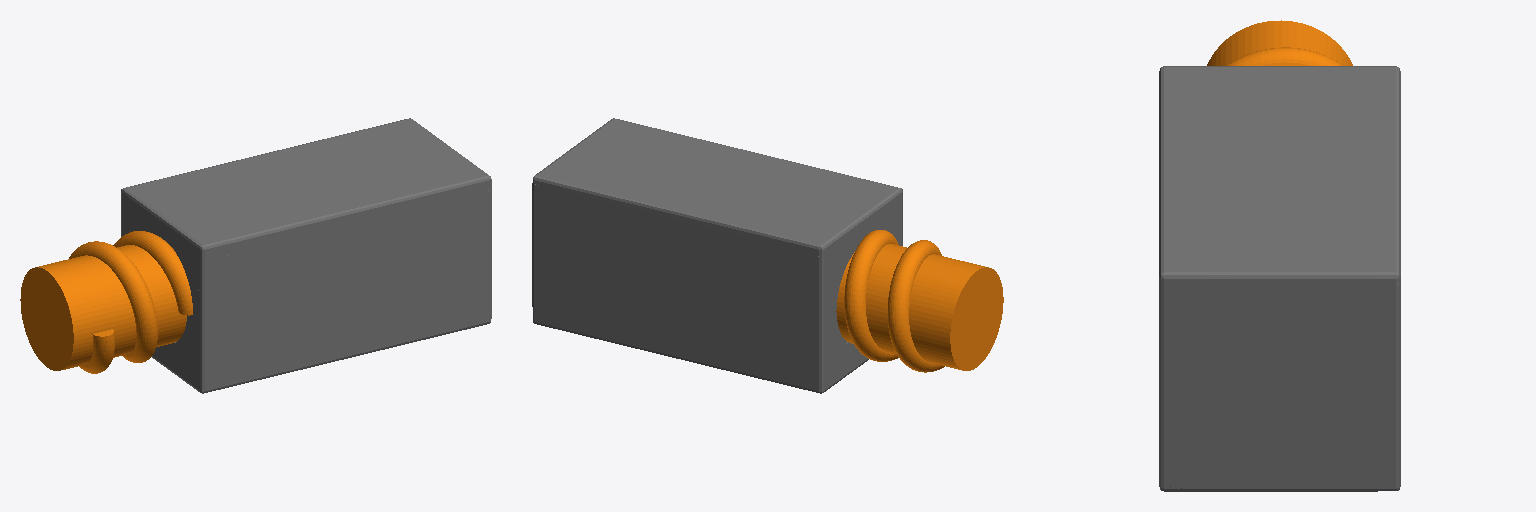
robot.urdf — square_table_leg4_sdf_hybrid_matchedmass:
<?xml version="1.0" encoding="utf-8"?>
<robot name="square_table_leg4_sdf_hybrid_matchedmass">
  <link name="base_link">
    <inertial>
      <!-- measured 1x: 22.75 g -->
      <mass value="0.022750"/>
      <origin xyz="0.005745 0.000000 -0.000001" rpy="0 0 0"/>
      <inertia ixx="2.570880e-06" ixy="-2.009384e-10" ixz="-8.317314e-09" iyy="1.202610e-05" iyz="-2.897770e-12" izz="1.202563e-05"/>
    </inertial>
  </link>
  <material name="thread">
    <color rgba="0.95 0.55 0.10 1.0"/>
  </material>
  <material name="body">
    <color rgba="0.50 0.50 0.50 1.0"/>
  </material>
  <link name="thread_link">
    <visual>
      <origin xyz="0.000000 0.000000 0.000000" rpy="0.000000 0.000000 0.000000"/>
      <geometry>
        <mesh filename="square_table_leg4_thread.obj" scale="1 1 1"/>
      </geometry>
      <material name="thread"/>
    </visual>
    <collision>
      <origin xyz="0.000000 0.000000 0.000000" rpy="0.000000 0.000000 0.000000"/>
      <geometry>
        <mesh filename="square_table_leg4_thread.obj" scale="1 1 1"/>
      </geometry>
      <sdf resolution="256"/>
    </collision>
  </link>
  <joint name="base_to_thread" type="fixed">
    <parent link="base_link"/>
    <child link="thread_link"/>
    <origin xyz="0 0 0" rpy="0 0 0"/>
  </joint>
  <link name="body_link">
    <!-- Per-hull visual+collision pairs (12 CoACD decomp pieces). Mirrors
         the convention in fabrica/beam_3x/*/sdf_hybrid so visualize_problems
         renders each hull as its own colored chunk. -->
    <visual><origin xyz="0 0 0" rpy="0 0 0"/><geometry><mesh filename="body_coacd/decomp_0.obj" scale="1 1 1"/></geometry><material name="body"/></visual>
    <collision><origin xyz="0 0 0" rpy="0 0 0"/><geometry><mesh filename="body_coacd/decomp_0.obj" scale="1 1 1"/></geometry></collision>
    <visual><origin xyz="0 0 0" rpy="0 0 0"/><geometry><mesh filename="body_coacd/decomp_1.obj" scale="1 1 1"/></geometry><material name="body"/></visual>
    <collision><origin xyz="0 0 0" rpy="0 0 0"/><geometry><mesh filename="body_coacd/decomp_1.obj" scale="1 1 1"/></geometry></collision>
    <visual><origin xyz="0 0 0" rpy="0 0 0"/><geometry><mesh filename="body_coacd/decomp_2.obj" scale="1 1 1"/></geometry><material name="body"/></visual>
    <collision><origin xyz="0 0 0" rpy="0 0 0"/><geometry><mesh filename="body_coacd/decomp_2.obj" scale="1 1 1"/></geometry></collision>
    <visual><origin xyz="0 0 0" rpy="0 0 0"/><geometry><mesh filename="body_coacd/decomp_3.obj" scale="1 1 1"/></geometry><material name="body"/></visual>
    <collision><origin xyz="0 0 0" rpy="0 0 0"/><geometry><mesh filename="body_coacd/decomp_3.obj" scale="1 1 1"/></geometry></collision>
    <visual><origin xyz="0 0 0" rpy="0 0 0"/><geometry><mesh filename="body_coacd/decomp_4.obj" scale="1 1 1"/></geometry><material name="body"/></visual>
    <collision><origin xyz="0 0 0" rpy="0 0 0"/><geometry><mesh filename="body_coacd/decomp_4.obj" scale="1 1 1"/></geometry></collision>
    <visual><origin xyz="0 0 0" rpy="0 0 0"/><geometry><mesh filename="body_coacd/decomp_5.obj" scale="1 1 1"/></geometry><material name="body"/></visual>
    <collision><origin xyz="0 0 0" rpy="0 0 0"/><geometry><mesh filename="body_coacd/decomp_5.obj" scale="1 1 1"/></geometry></collision>
    <visual><origin xyz="0 0 0" rpy="0 0 0"/><geometry><mesh filename="body_coacd/decomp_6.obj" scale="1 1 1"/></geometry><material name="body"/></visual>
    <collision><origin xyz="0 0 0" rpy="0 0 0"/><geometry><mesh filename="body_coacd/decomp_6.obj" scale="1 1 1"/></geometry></collision>
    <visual><origin xyz="0 0 0" rpy="0 0 0"/><geometry><mesh filename="body_coacd/decomp_7.obj" scale="1 1 1"/></geometry><material name="body"/></visual>
    <collision><origin xyz="0 0 0" rpy="0 0 0"/><geometry><mesh filename="body_coacd/decomp_7.obj" scale="1 1 1"/></geometry></collision>
    <visual><origin xyz="0 0 0" rpy="0 0 0"/><geometry><mesh filename="body_coacd/decomp_8.obj" scale="1 1 1"/></geometry><material name="body"/></visual>
    <collision><origin xyz="0 0 0" rpy="0 0 0"/><geometry><mesh filename="body_coacd/decomp_8.obj" scale="1 1 1"/></geometry></collision>
    <visual><origin xyz="0 0 0" rpy="0 0 0"/><geometry><mesh filename="body_coacd/decomp_9.obj" scale="1 1 1"/></geometry><material name="body"/></visual>
    <collision><origin xyz="0 0 0" rpy="0 0 0"/><geometry><mesh filename="body_coacd/decomp_9.obj" scale="1 1 1"/></geometry></collision>
    <visual><origin xyz="0 0 0" rpy="0 0 0"/><geometry><mesh filename="body_coacd/decomp_10.obj" scale="1 1 1"/></geometry><material name="body"/></visual>
    <collision><origin xyz="0 0 0" rpy="0 0 0"/><geometry><mesh filename="body_coacd/decomp_10.obj" scale="1 1 1"/></geometry></collision>
    <visual><origin xyz="0 0 0" rpy="0 0 0"/><geometry><mesh filename="body_coacd/decomp_11.obj" scale="1 1 1"/></geometry><material name="body"/></visual>
    <collision><origin xyz="0 0 0" rpy="0 0 0"/><geometry><mesh filename="body_coacd/decomp_11.obj" scale="1 1 1"/></geometry></collision>
  </link>
  <joint name="base_to_body" type="fixed">
    <parent link="base_link"/>
    <child link="body_link"/>
    <origin xyz="0 0 0" rpy="0 0 0"/>
  </joint>
</robot>

--- Facts derived from the render (not from the file) ---
The picture shows the robot from 3 angles, left to right: view 1: azimuth 30°, elevation 25°; view 2: azimuth 150°, elevation 25°; view 3: azimuth 270°, elevation 25°; orthographic projection.
Robot: square_table_leg4_sdf_hybrid_matchedmass — 3 links, 2 joints (2 fixed); root link base_link; default pose: every joint at zero.
Links seen in each view (by area): view 1: body_link, thread_link; view 2: body_link, thread_link; view 3: body_link, thread_link.
Boxes of the visible links, x1,y1,x2,y2 form: body_link: (121,118,491,393); thread_link: (20,231,192,373); body_link: (532,118,902,393); thread_link: (836,230,1003,372); body_link: (1159,66,1400,491); thread_link: (1207,20,1352,65).
Bounding box of the posed robot: 0.0878 × 0.0307 × 0.0307 m (x, y, z).
Meshes: 13 distinct files referenced, 13 mesh visuals loaded (13 OBJ).
